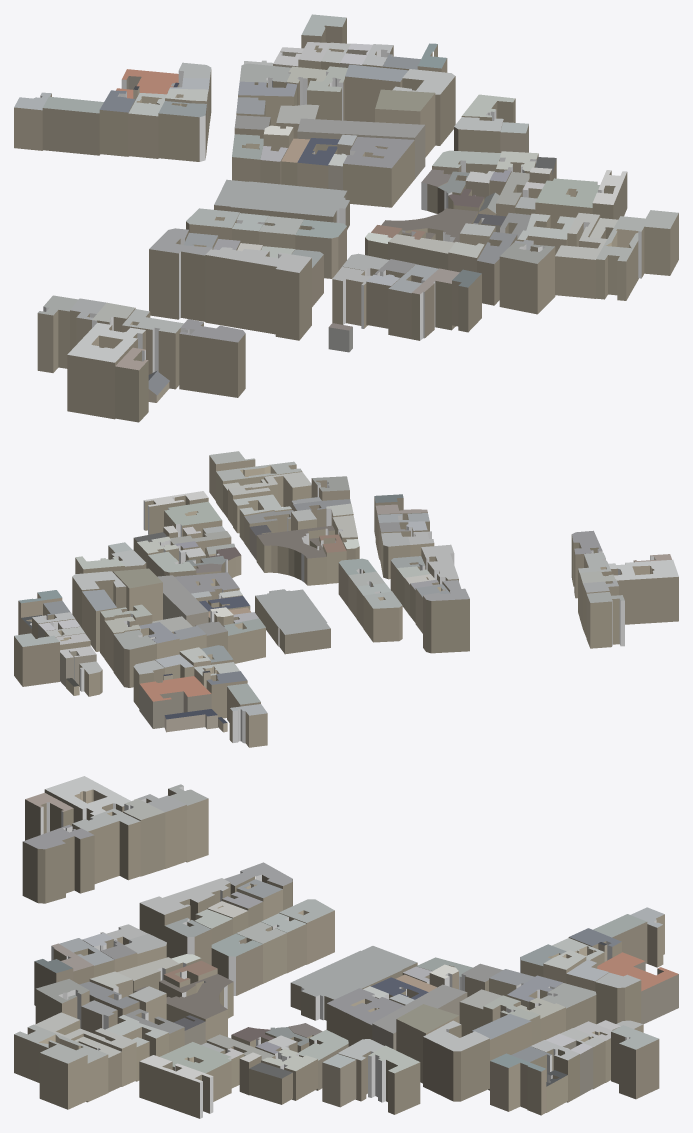
3 renders of one model, top to bottom at view 1: azimuth 30°, elevation 25°; view 2: azimuth 150°, elevation 25°; view 3: azimuth 270°, elevation 25°, orthographic. The views are drawn at different scales.
Visible parts, largest first — view 1: tuile; view 2: tuile; view 3: tuile.
Boxes of the visible parts, x1=… form: tuile: x1=14, y1=14, x2=678, y2=422; tuile: x1=14, y1=451, x2=678, y2=747; tuile: x1=14, y1=776, x2=678, y2=1118.
Size of the model in its own units: 280 by 31.88 by 266.
